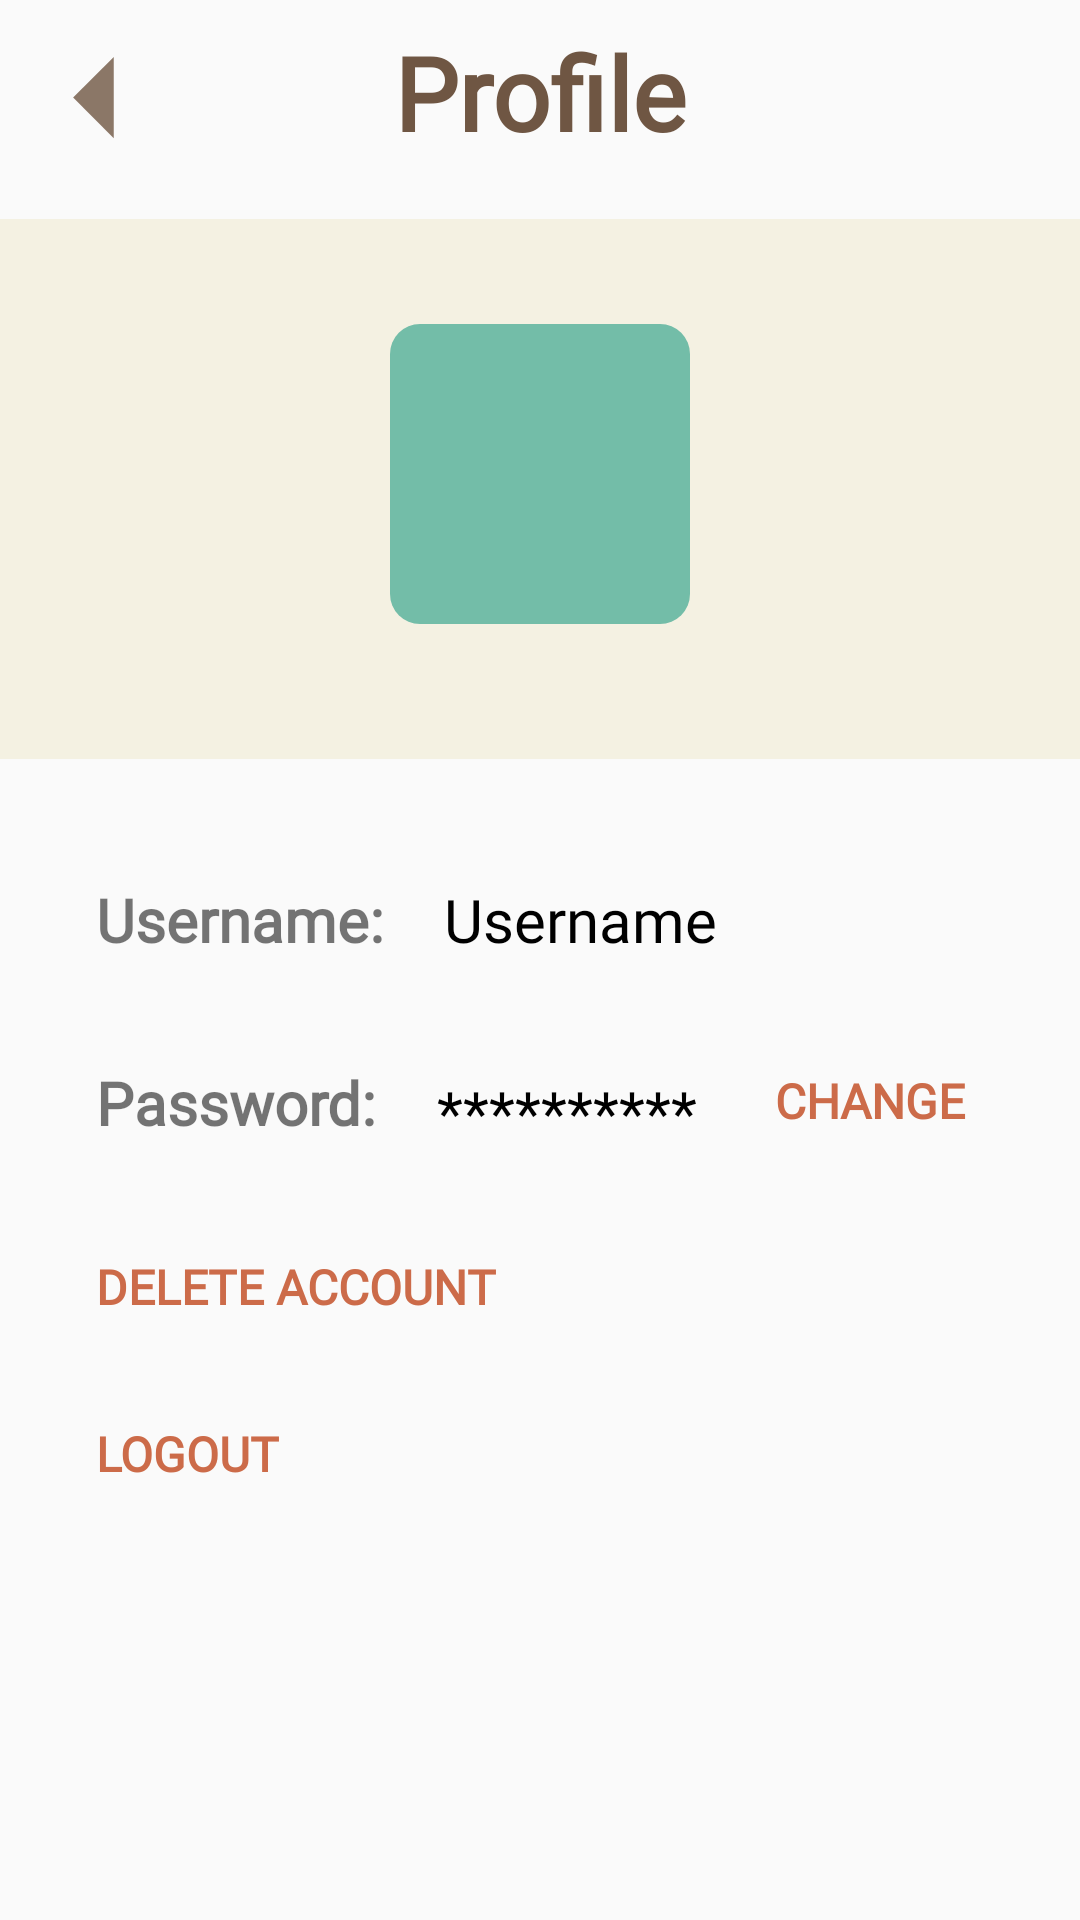

Icon bounding boxes for this 1080 × 1920 phone screenshot, format (left=x1, top=y1, right=x2, bottom=y2):
back: (left=73, top=57, right=114, bottom=138)
